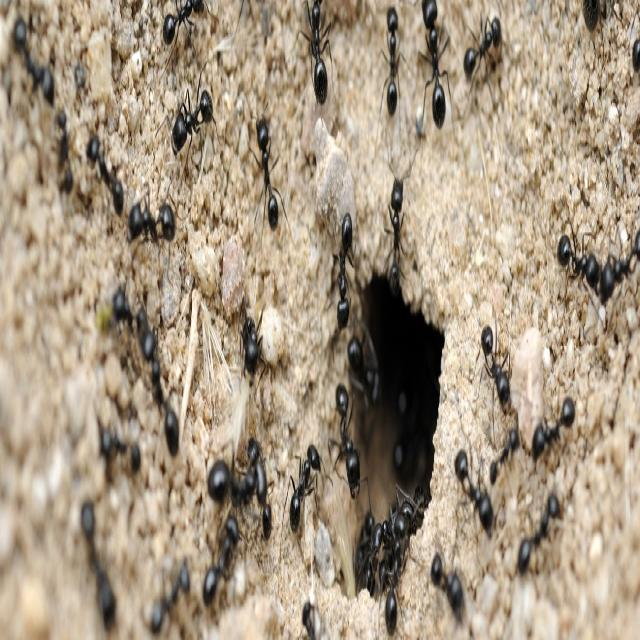Minor: (248, 92, 296, 250), (156, 62, 221, 178), (279, 434, 333, 564), (382, 133, 418, 310), (331, 206, 358, 330), (237, 292, 266, 396)
